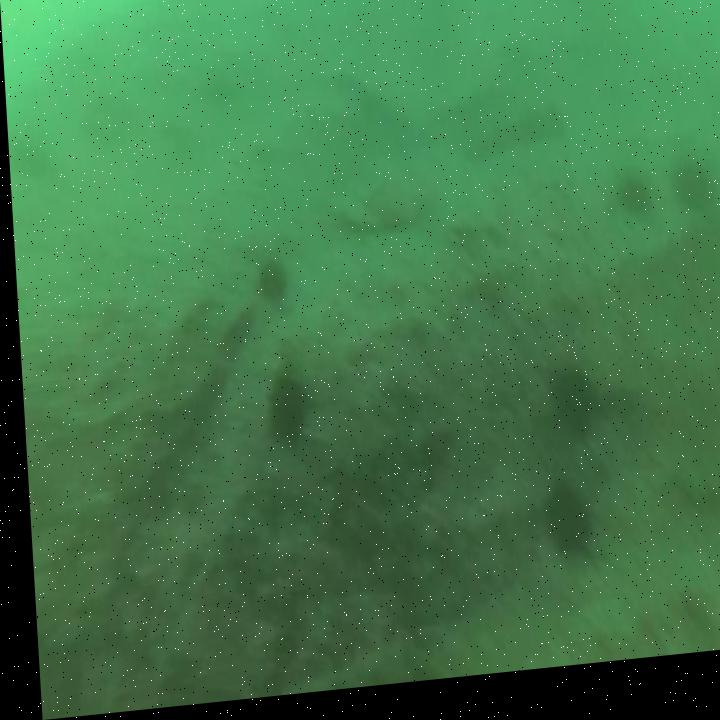echinus: (544, 379, 591, 446), (667, 167, 713, 231), (261, 381, 297, 442), (616, 186, 647, 230), (255, 263, 280, 307)
starfish: (540, 490, 582, 568)
